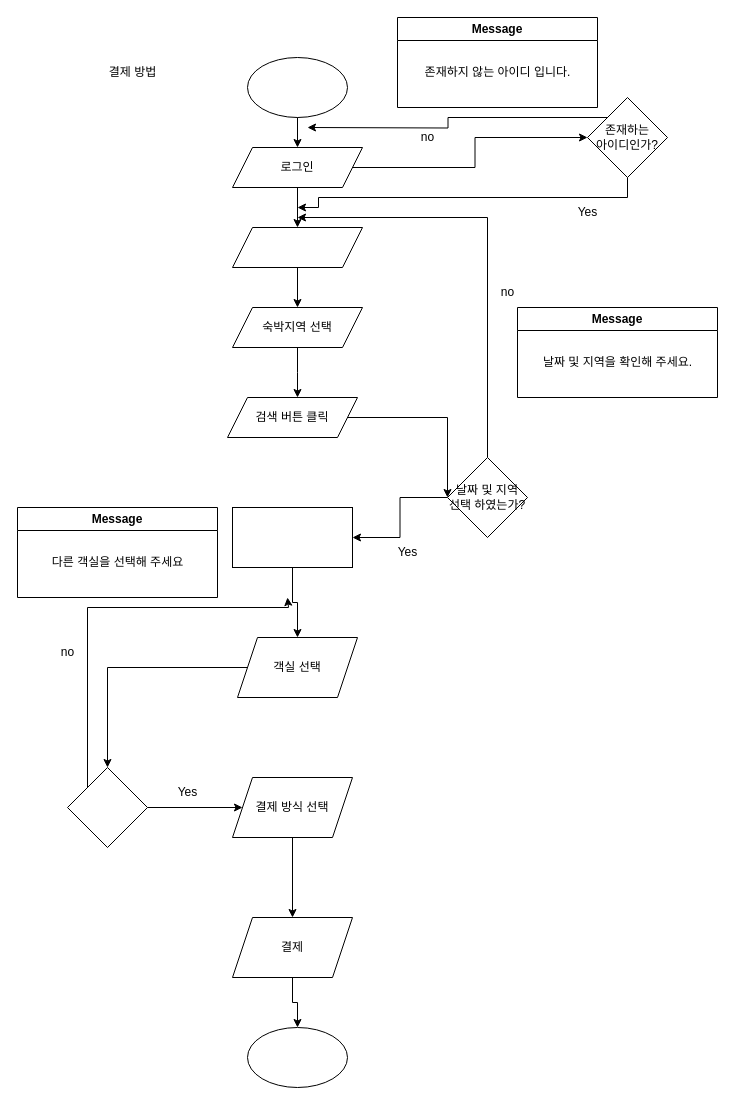
This 735x1105 diagram has some shape labels left out. The centre of each missing label's shape, as x and y in pixels:
"객실유무 여부" belongs at point (107, 807).
"숙박 업소 확인" belongs at point (292, 537).
"숙박날짜 선택" belongs at point (297, 247).
"시작" belongs at point (297, 87).
"완료" belongs at point (297, 1057).
